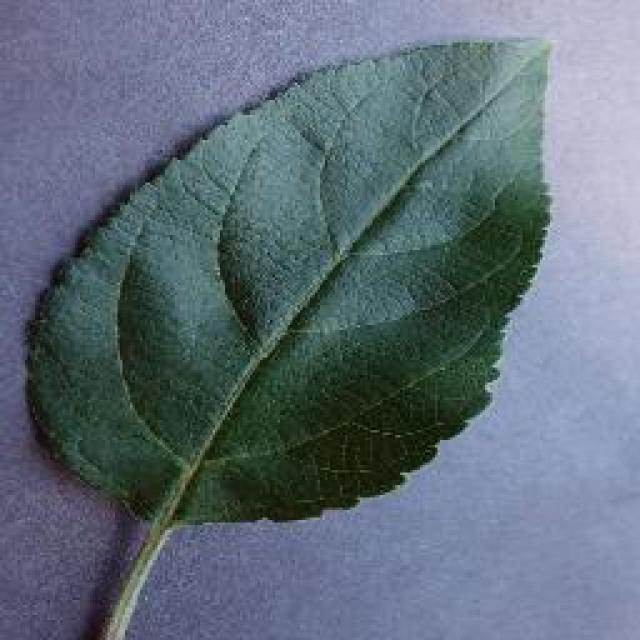apple healthy: (20, 32, 555, 638)
